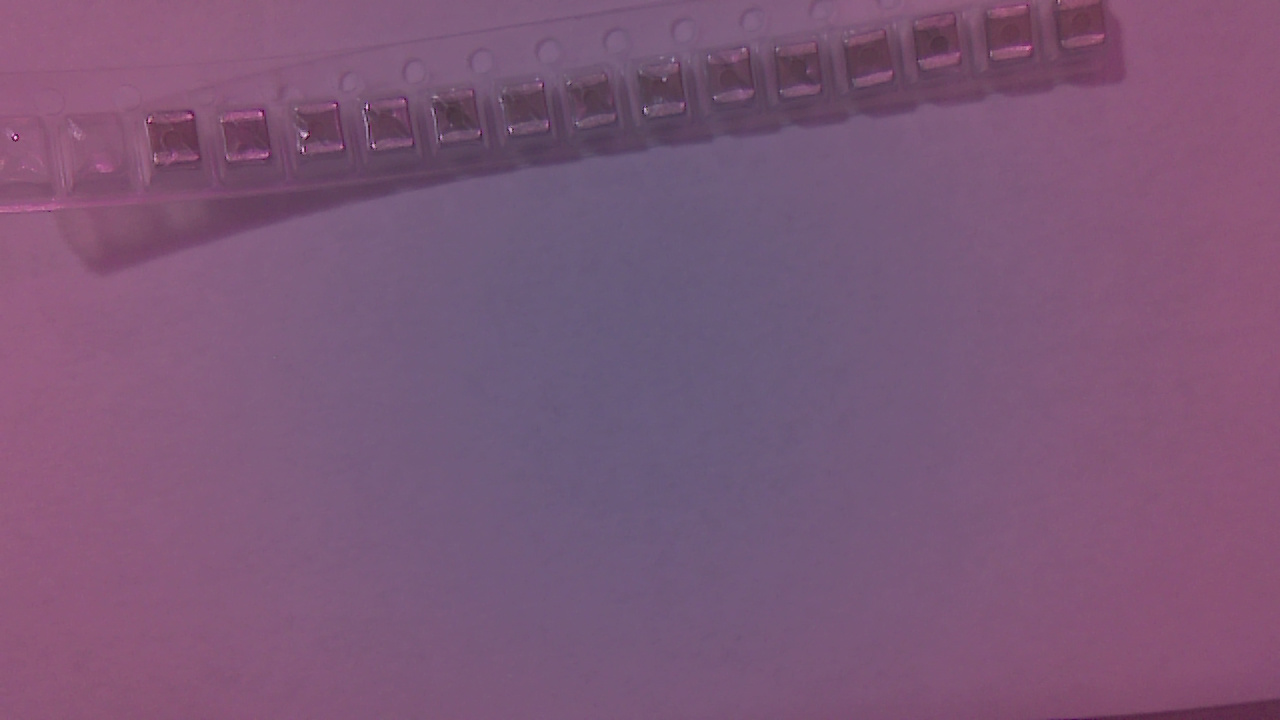Condensator: (222, 110, 275, 172), (710, 48, 758, 114), (435, 89, 485, 152), (568, 74, 617, 137), (504, 81, 553, 144), (150, 116, 204, 172), (848, 32, 895, 96), (641, 64, 688, 127), (296, 104, 347, 161), (367, 98, 416, 157), (992, 7, 1038, 67), (918, 17, 964, 77), (780, 42, 822, 107)
